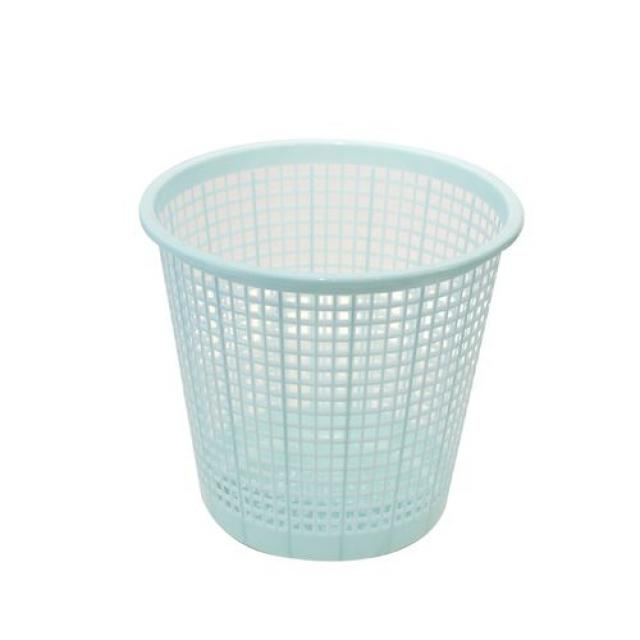Dustbin: (135, 134, 528, 566)
